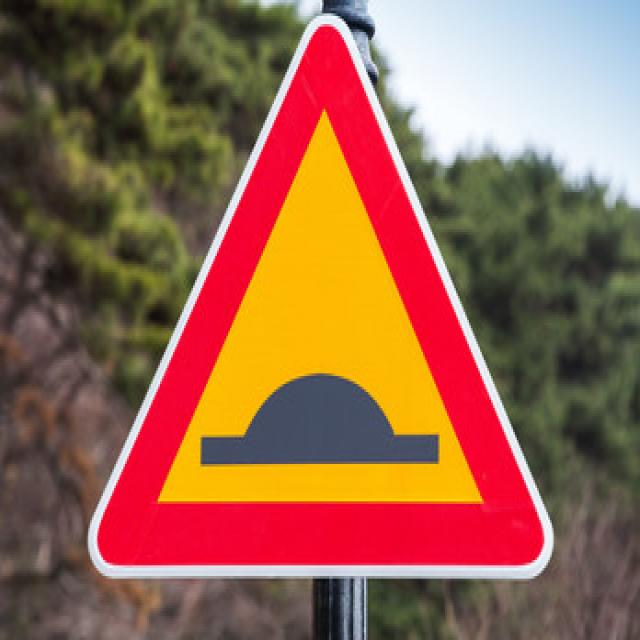hump: (86, 14, 558, 582)
